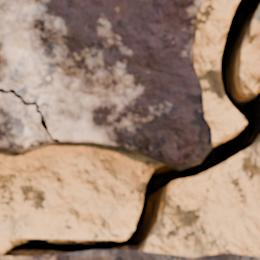brick: (0, 0, 211, 168), (0, 93, 53, 152), (50, 251, 259, 259), (0, 257, 44, 259)
crack: (1, 0, 259, 259), (0, 87, 59, 142)
